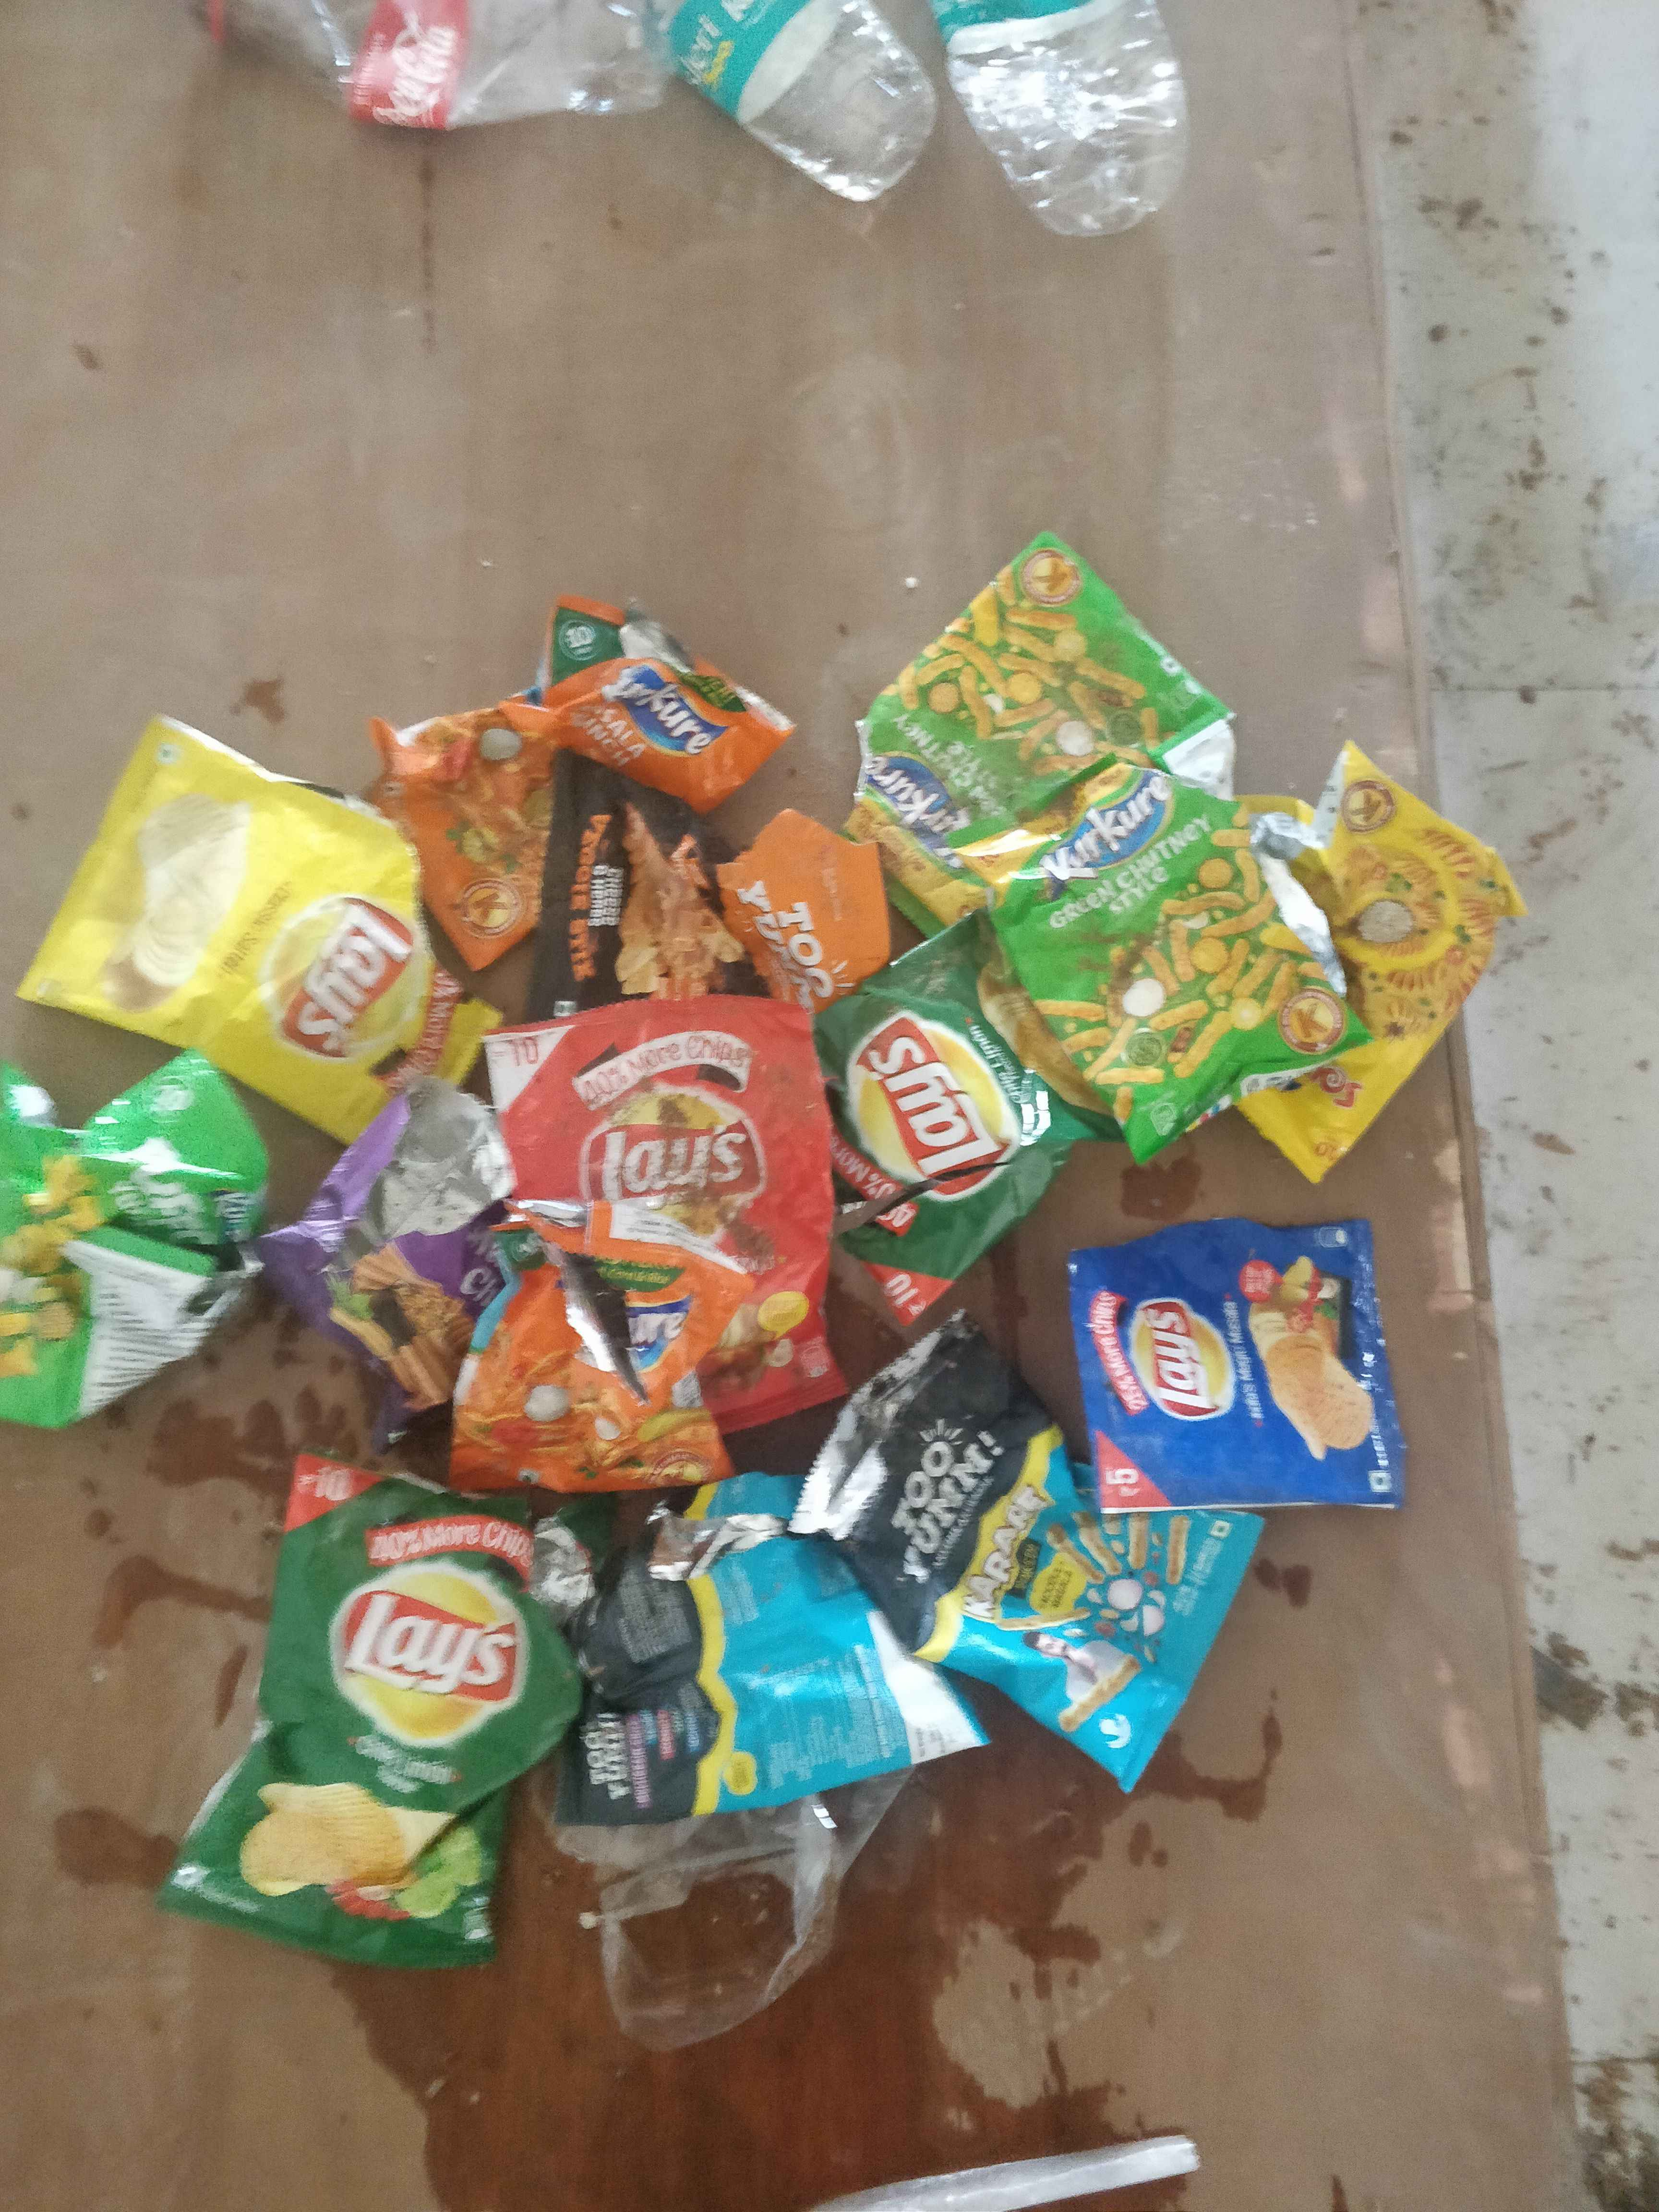Bisleri: (652, 0, 767, 110), (946, 0, 1037, 61)
Coca-Cola: (350, 0, 455, 145)
Lays: (315, 1547, 538, 1738), (572, 1076, 795, 1235), (247, 881, 436, 1052), (843, 1008, 1046, 1162), (1103, 1278, 1262, 1440)
kurkure: (586, 651, 734, 761), (1042, 772, 1166, 902), (878, 744, 1004, 853), (209, 1165, 260, 1258)
tooyumm: (734, 864, 887, 1001), (878, 1426, 1000, 1568), (572, 1703, 666, 1803)
